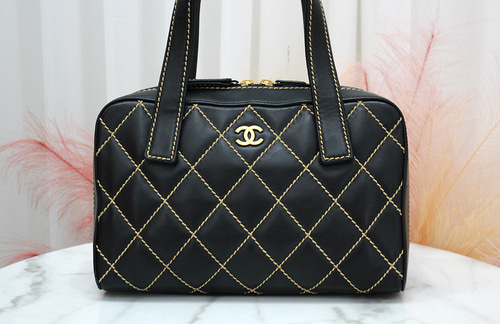channel: (82, 68, 413, 303), (235, 122, 277, 151)
